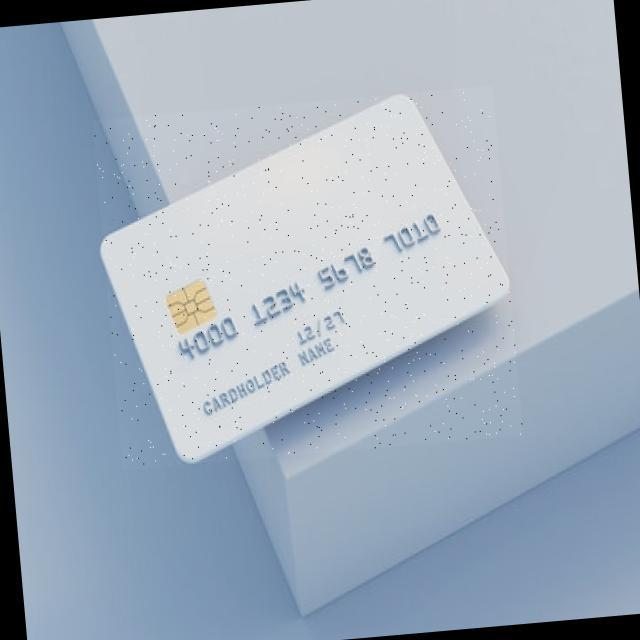payment_card: (98, 91, 511, 464)
